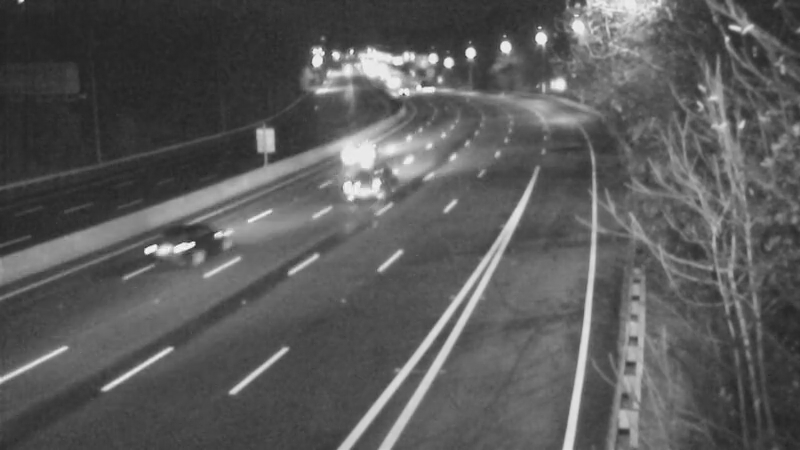vehicle: (317, 116, 397, 196), (325, 153, 405, 233), (135, 207, 215, 287), (403, 62, 453, 112), (378, 67, 428, 117)
